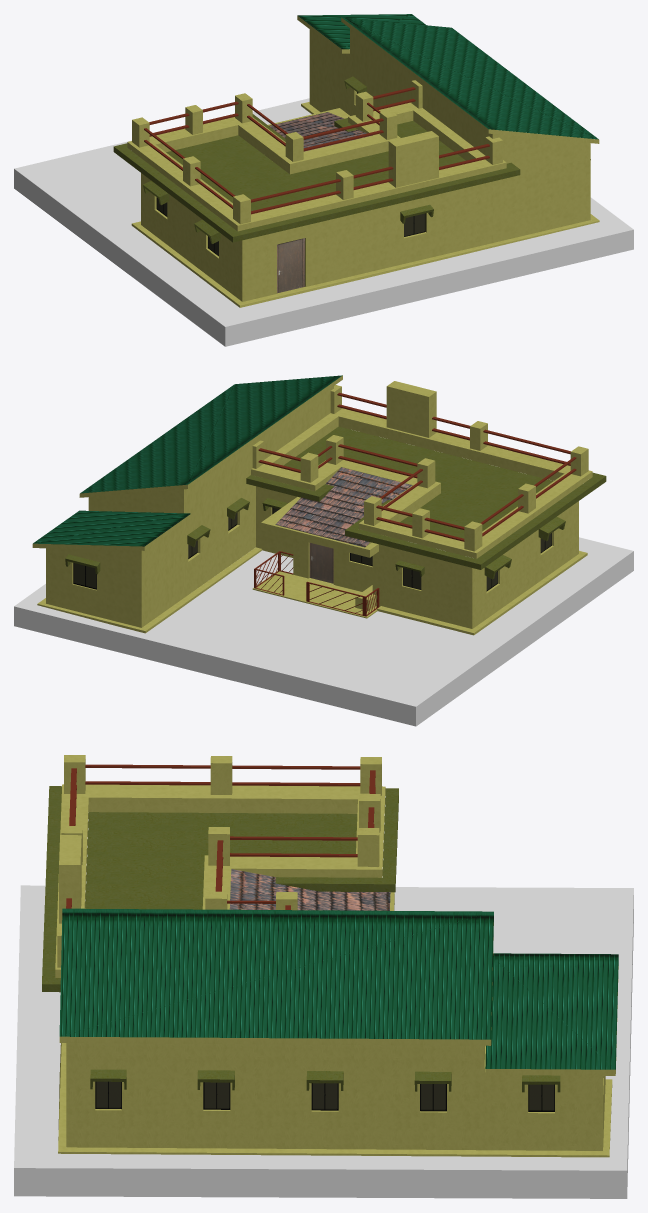
Rendered from GECBunglow.glb.
3 renders of one model, top to bottom at view 1: azimuth 30°, elevation 25°; view 2: azimuth 150°, elevation 25°; view 3: azimuth 270°, elevation 25°, orthographic. The views are drawn at different scales.
Parts seen in each view (by area): view 1: IIT Bunglow_yellow walls, Plane, IIT Bunglow_detailed green, IIT Bunglow_green roof, IIT Bunglow_all brown railings, IIT Bunglow_Nale roof, IIT Bunglow_wooden doors, IIT Bunglow_all windows; view 2: IIT Bunglow_yellow walls, Plane, IIT Bunglow_detailed green, IIT Bunglow_green roof, IIT Bunglow_all brown railings, IIT Bunglow_Nale roof, IIT Bunglow_all windows, IIT Bunglow_wooden doors; view 3: IIT Bunglow_yellow walls, IIT Bunglow_green roof, Plane, IIT Bunglow_detailed green, IIT Bunglow_all brown railings, IIT Bunglow_all windows, IIT Bunglow_Nale roof.
Boxes of the visible parts, box(x1,y1,x2,y2) form: IIT Bunglow_yellow walls: box(127, 15, 599, 307); Plane: box(14, 98, 633, 346); IIT Bunglow_detailed green: box(113, 76, 590, 243); IIT Bunglow_green roof: box(297, 14, 598, 139); IIT Bunglow_all brown railings: box(144, 87, 489, 214); IIT Bunglow_Nale roof: box(269, 112, 371, 151); IIT Bunglow_wooden doors: box(277, 238, 304, 293); IIT Bunglow_all windows: box(156, 92, 425, 256); IIT Bunglow_yellow walls: box(32, 375, 592, 635); Plane: box(14, 537, 633, 726); IIT Bunglow_detailed green: box(65, 426, 606, 579); IIT Bunglow_green roof: box(33, 375, 342, 546); IIT Bunglow_all brown railings: box(254, 392, 576, 616); IIT Bunglow_Nale roof: box(275, 467, 412, 547); IIT Bunglow_all windows: box(73, 507, 551, 591); IIT Bunglow_wooden doors: box(309, 543, 333, 583); IIT Bunglow_yellow walls: box(55, 755, 618, 1157); IIT Bunglow_green roof: box(59, 908, 618, 1069); Plane: box(14, 885, 633, 1198); IIT Bunglow_detailed green: box(42, 786, 560, 1092); IIT Bunglow_all brown railings: box(66, 764, 375, 909); IIT Bunglow_all windows: box(95, 1081, 554, 1111); IIT Bunglow_Nale roof: box(229, 869, 390, 910).
Size of the model in its own units: 32.13 by 10.87 by 29.52.
8 materials, 6 textured.
